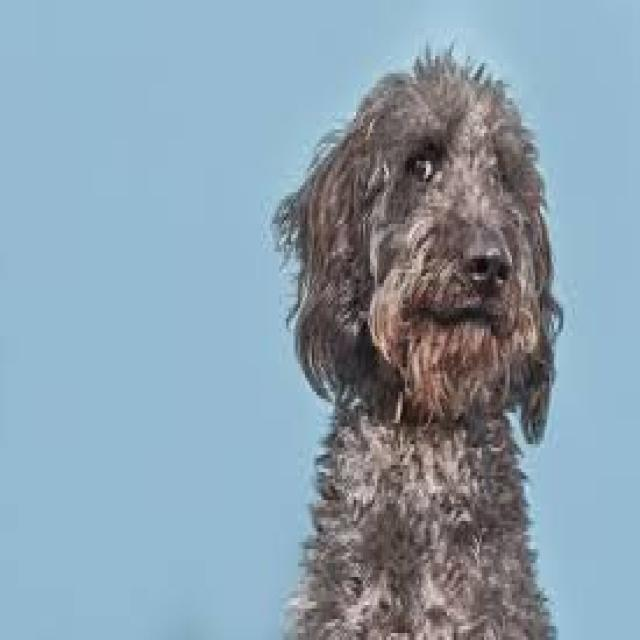Dog: (260, 39, 575, 640)
